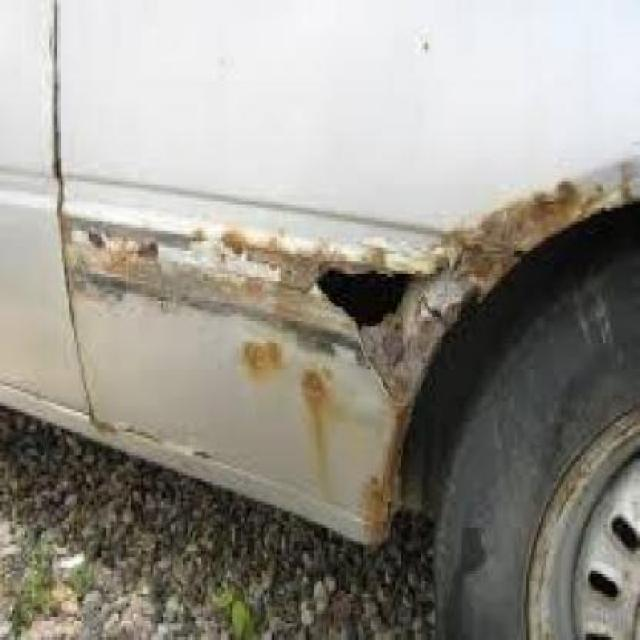corrosion: (55, 106, 640, 554)
